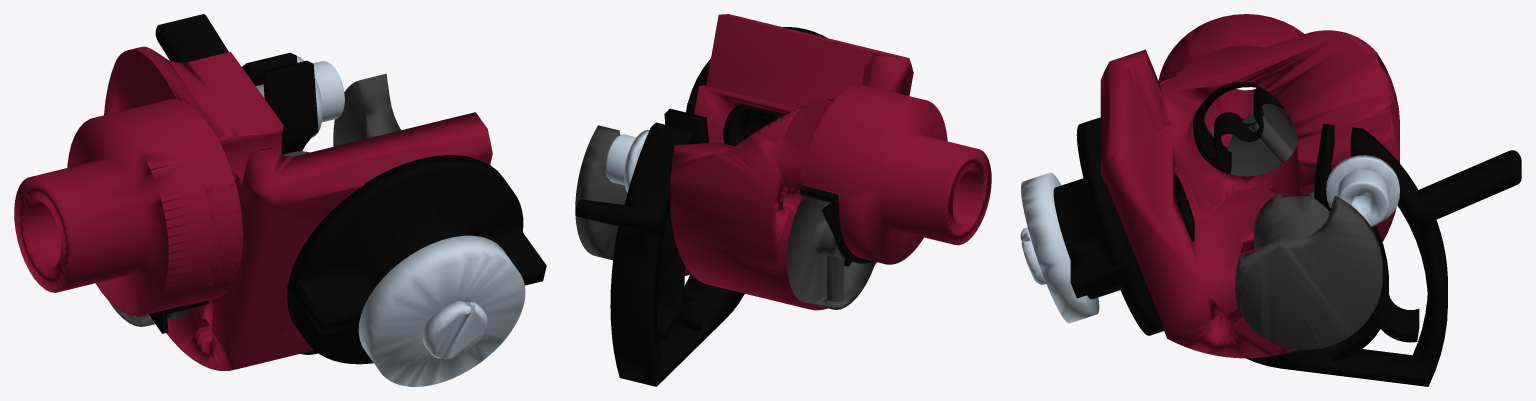
The model's file is condyle_right_parts_1.obj.
3 renders of one model, left to right at view 1: azimuth 30°, elevation 25°; view 2: azimuth 150°, elevation 25°; view 3: azimuth 270°, elevation 25°, orthographic. The views are drawn at different scales.
Size of the model in its own units: 54.47 by 42.43 by 67.37.
